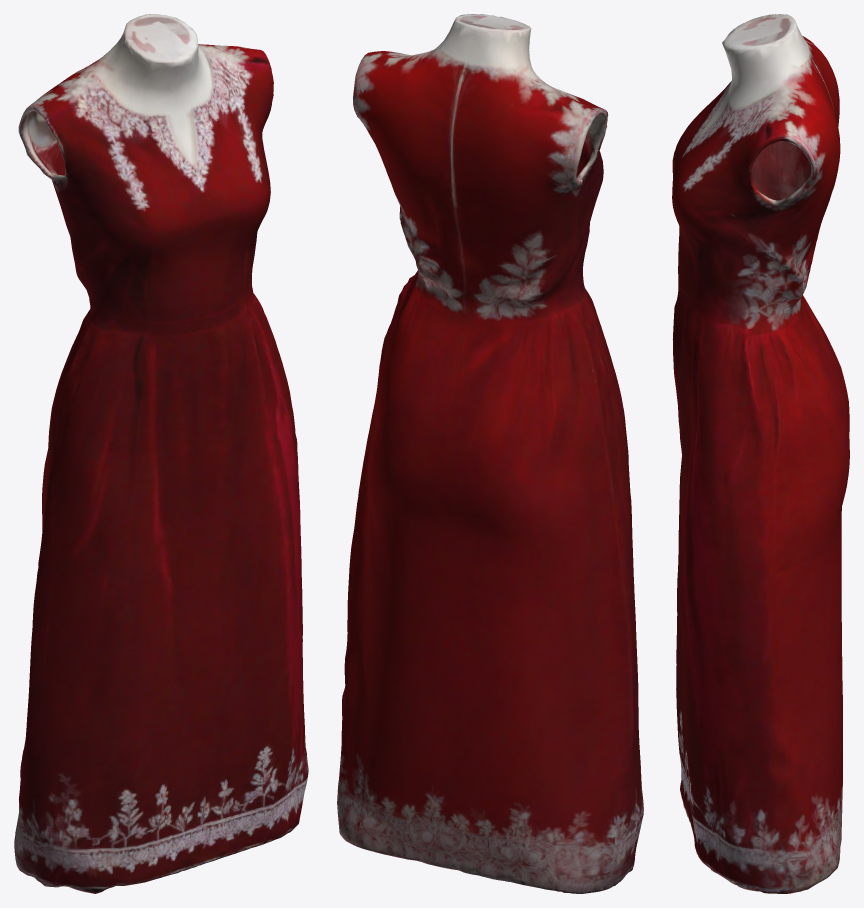
The model's file is job_1743889193_refined.glb.
The picture shows the model from 3 angles, left to right: view 1: azimuth 30°, elevation 25°; view 2: azimuth 150°, elevation 25°; view 3: azimuth 270°, elevation 25°; orthographic projection. The views are drawn at different scales.
Bounding box in the file's own units: 0.7058 × 2 × 0.3991.
1 material, 1 textured.
